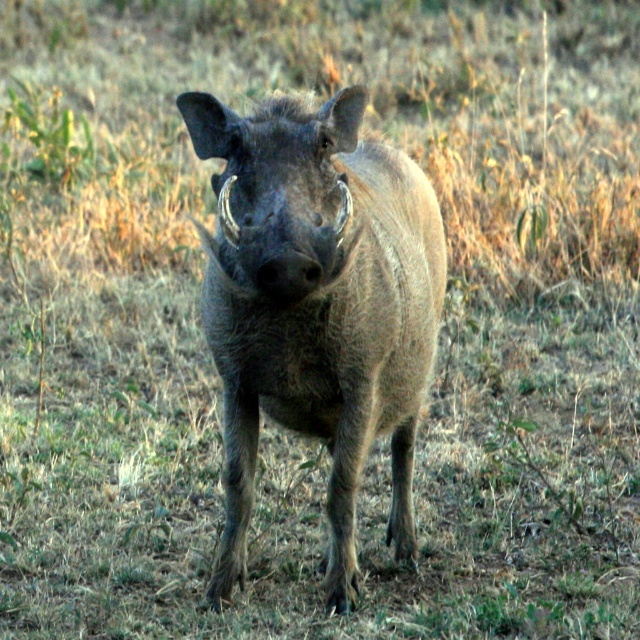Pig: (175, 81, 445, 618)
